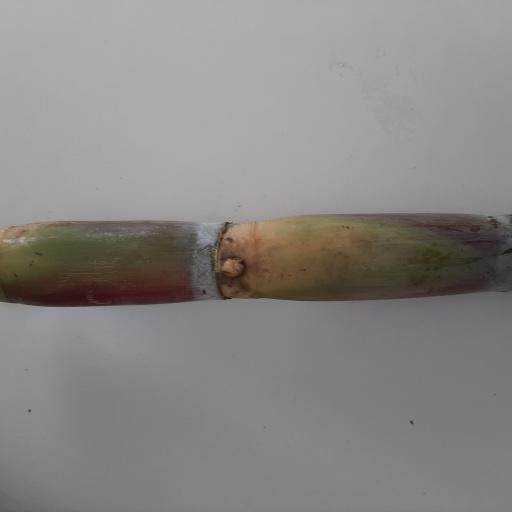Bud: (219, 257, 247, 279)
